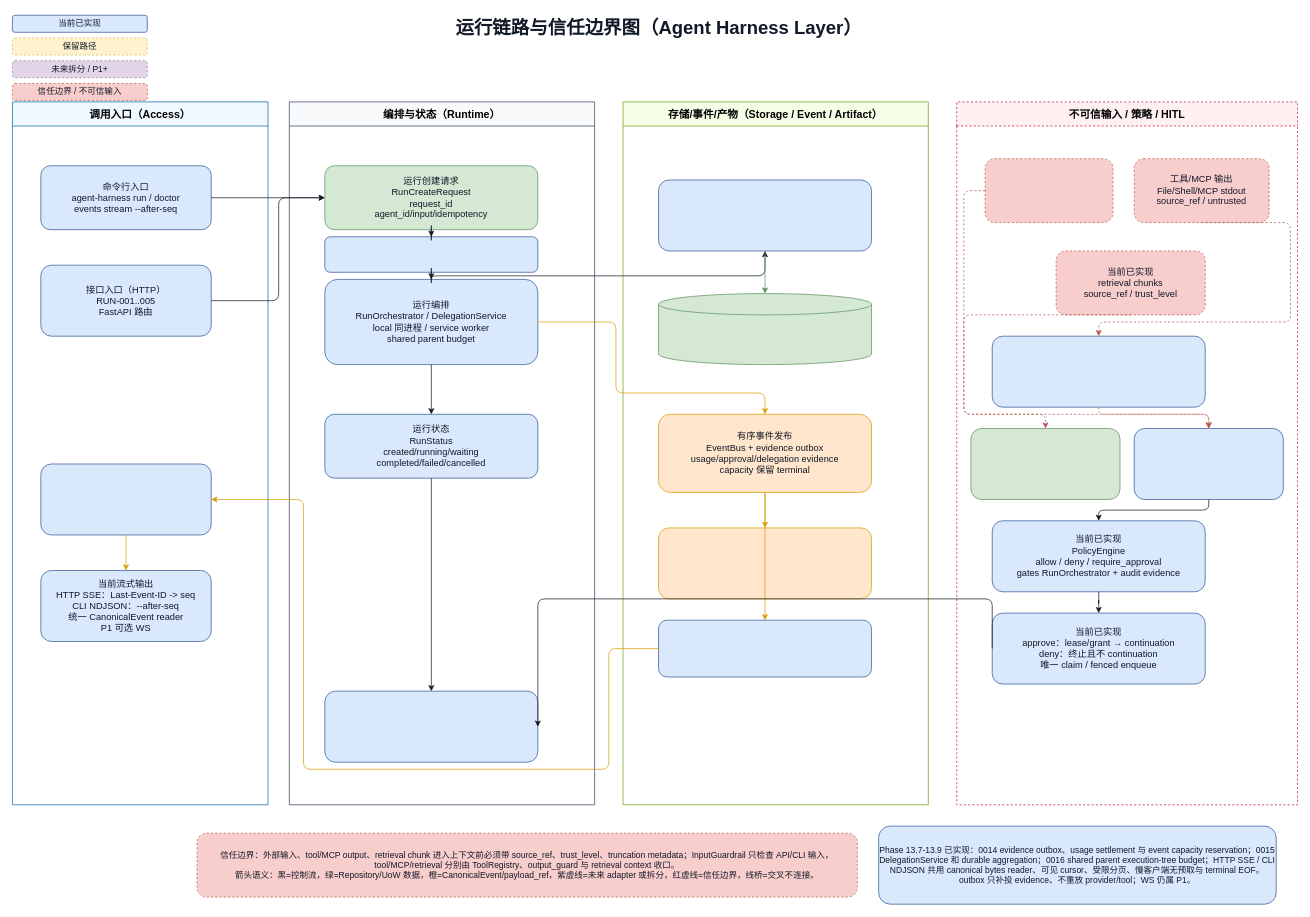
Some shapes in this 1310 by 917 pixel diagram are drawn without their labels. Here are the shapes that lost their labels. From the top down, the centre of each, then its label:
the point at 1048,190: 外部输入 用户/API/CLI 默认不可信
the point at 765,215: 事务边界 SQLAlchemyStorage.uow() 显式 commit 默认 rollback
the point at 431,254: 执行分派 service：RunQueue seam → worker RedisRunQueue adapter 隐藏 Redis local：同进程直调
the point at 765,329: 仓储核心表 runs/checkpoints/events evidence outbox / delegation shared budget ledger
the point at 1098,371: 当前已实现 工具执行边界 ToolRegistry / output_guard policy + audit + artifact_ref
the point at 1045,463: 当前已实现 ContextAssembler retrieval context source/trust/truncation evidence
the point at 1208,463: 当前已实现 InputGuardrail API/CLI external input checks decision + evidence
the point at 125,499: 事件读取入口 RUN-003 JSON events GET /runs/{id}/events after_seq 续读 seq 断点
the point at 765,563: 大载荷产物 FileArtifactStore large payload -> payload_ref 脱敏 + checksum
the point at 765,648: 事件持久化 local：LocalJsonlEventSink service：PostgreSQL event sink
the point at 431,726: 检查点与恢复 普通 resume：ResumeToken 校验 审批 continuation：私有 lease / grant
